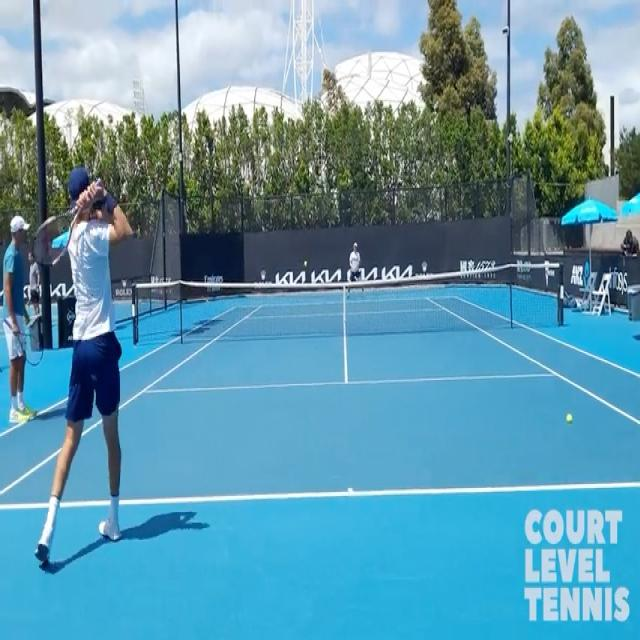backhand-stroke: (32, 152, 144, 572)
